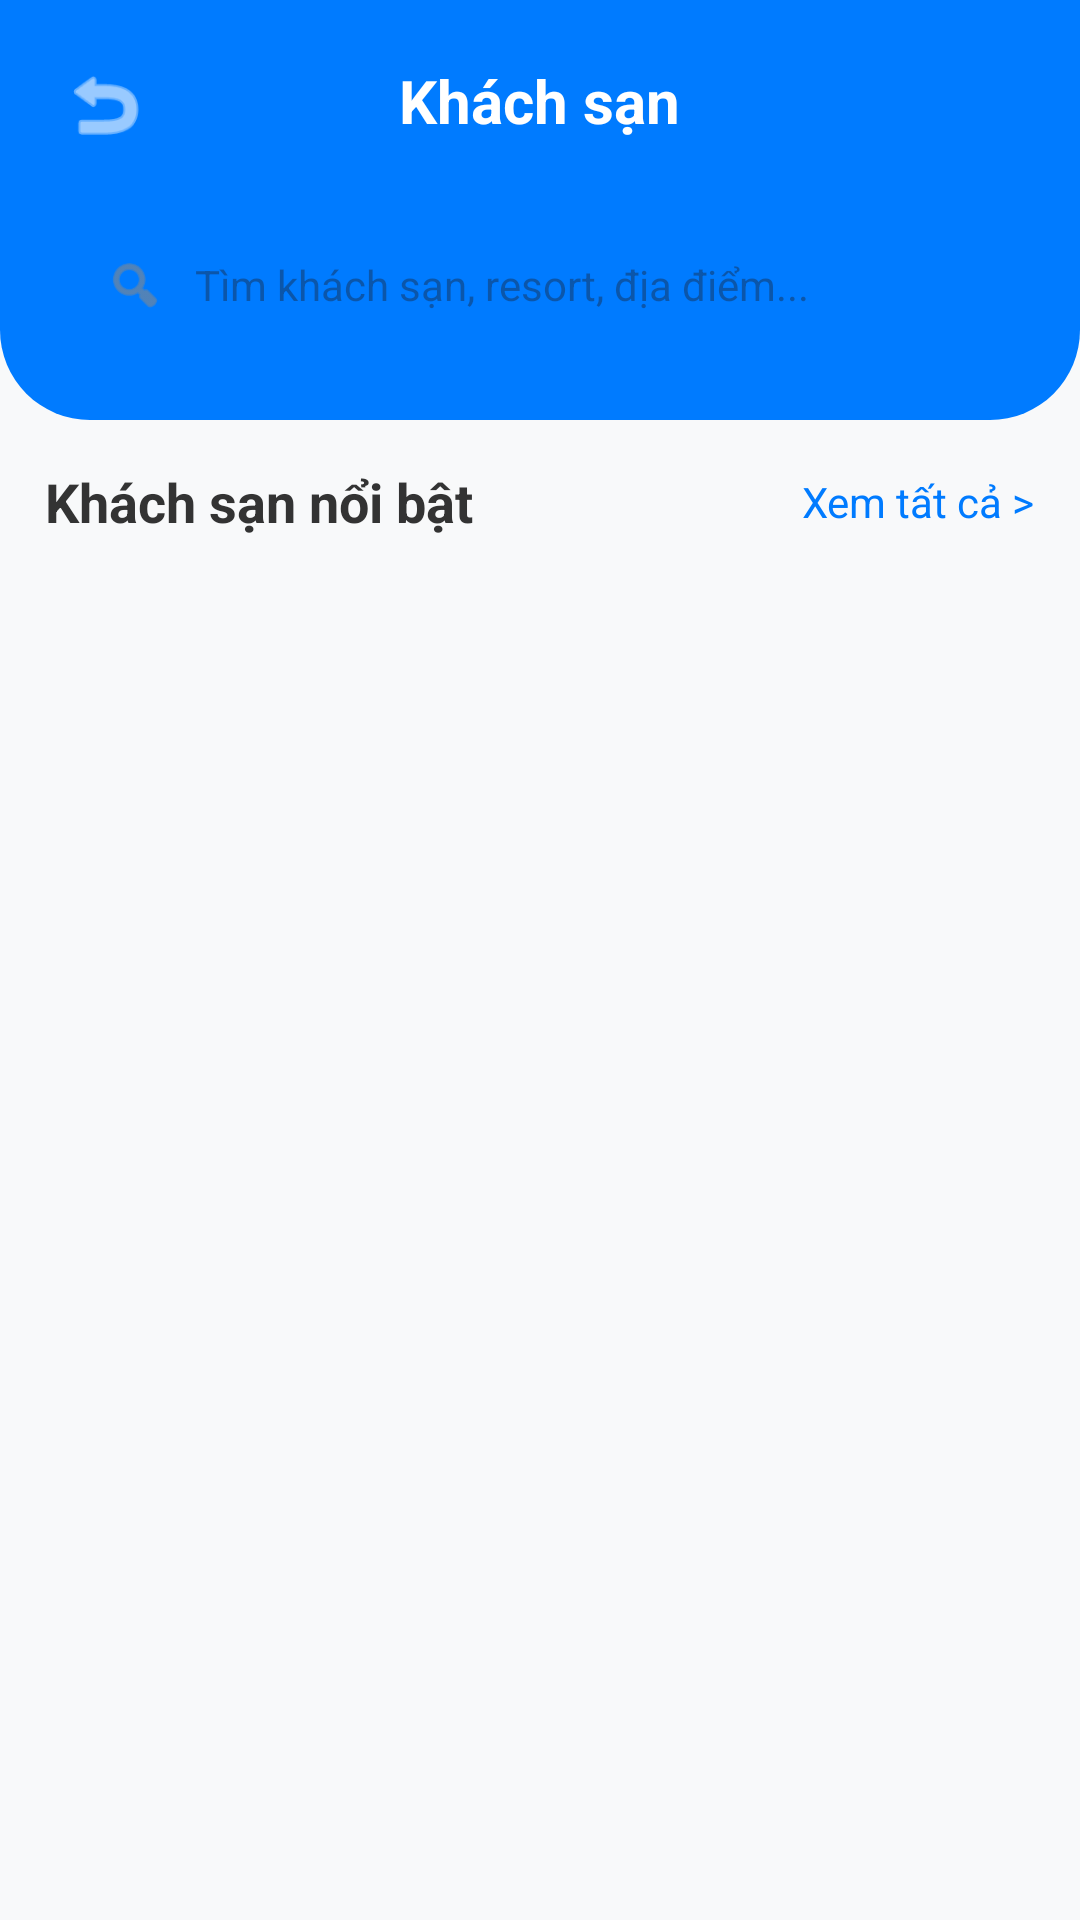

Icon click points for this 1080 x 1920 phone screenshot, format (x,y):
revert: (106,105)
search: (135,285)
